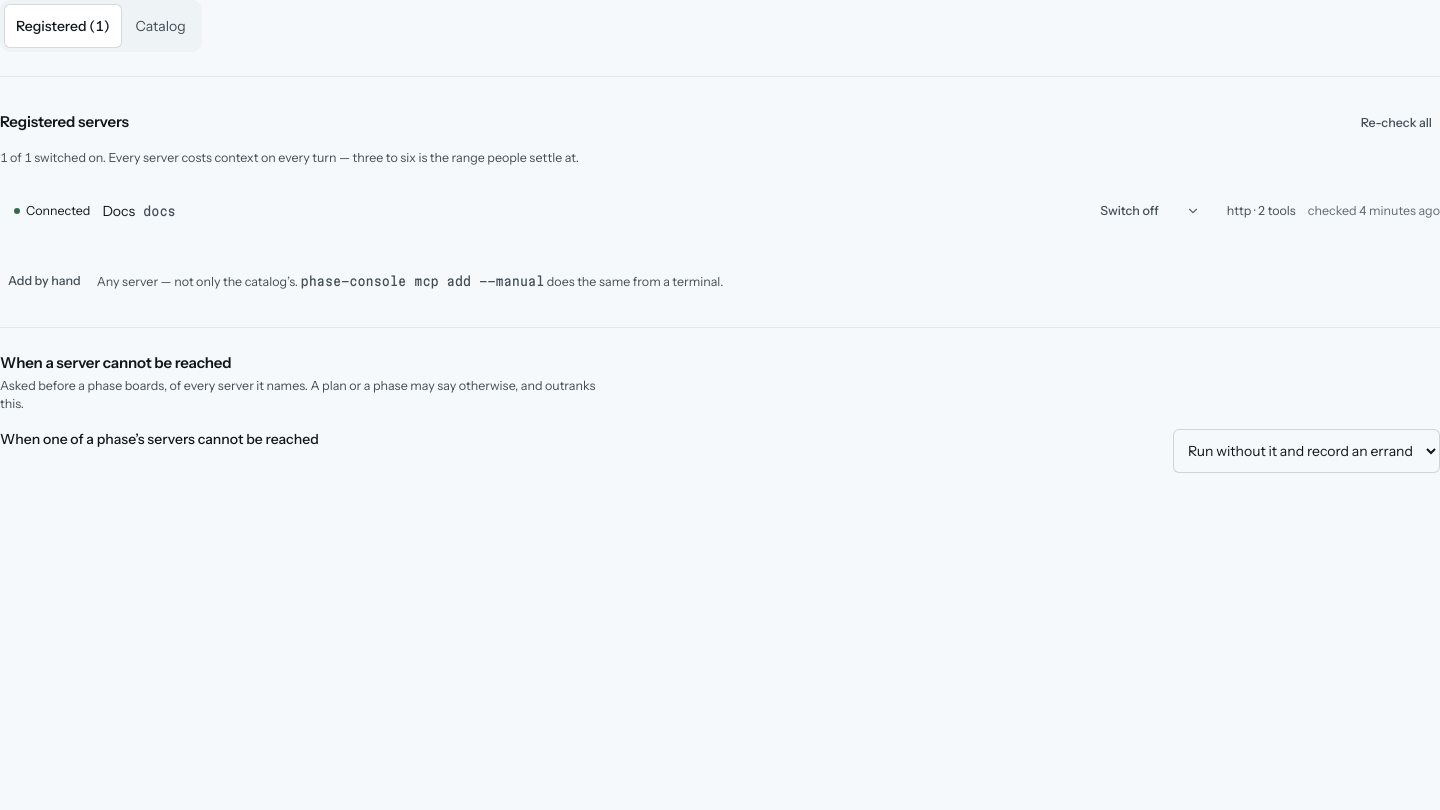
Test: the presses on a server › removes a server only once the confirm is answered, after saying what removal costs
The width and height of the screenshot is (1440, 810).
Click the button named "Show details of ". click: click(1193, 211)
box: [1171,189,1215,233]
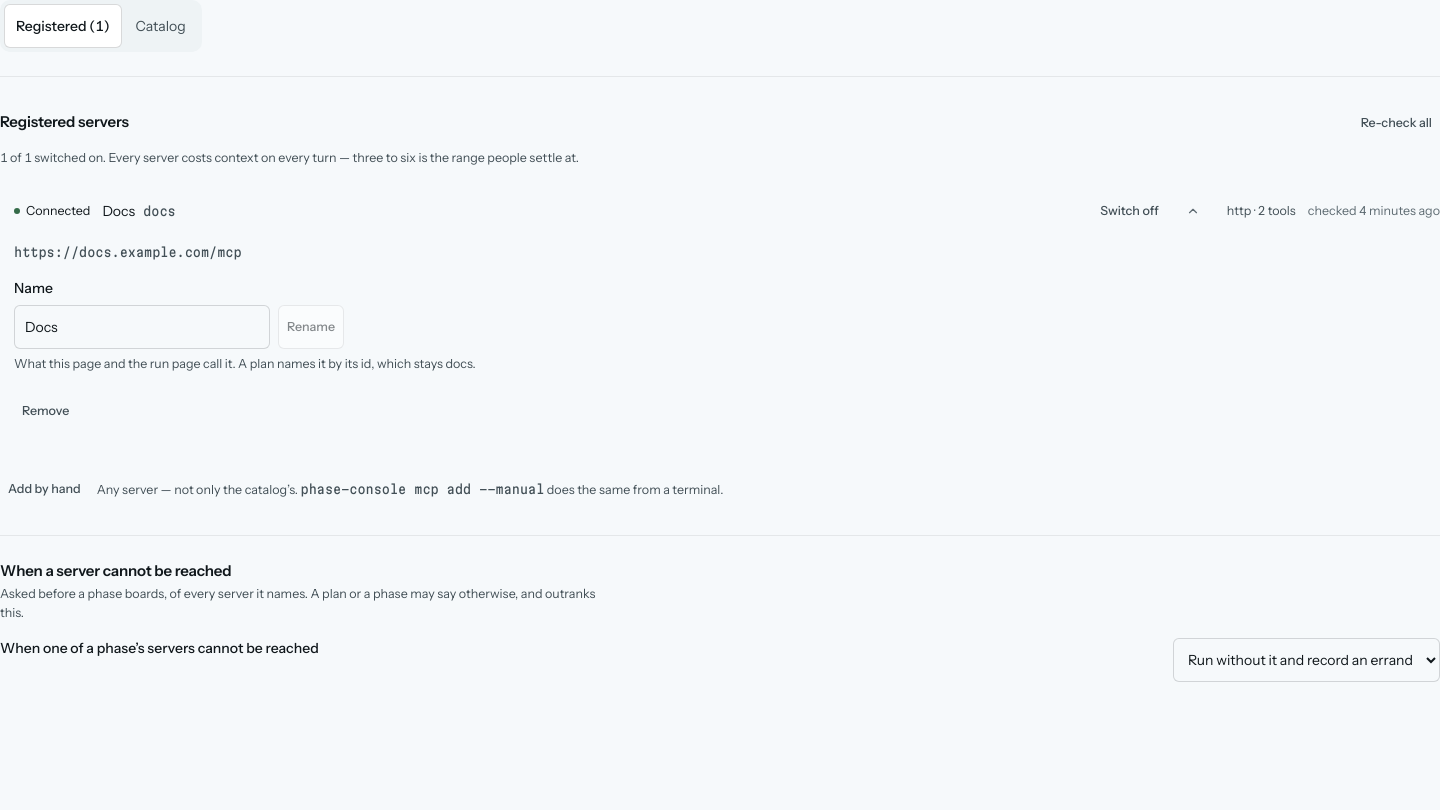
Click the button "Remove". click: click(46, 411)
box: [14,389,77,433]
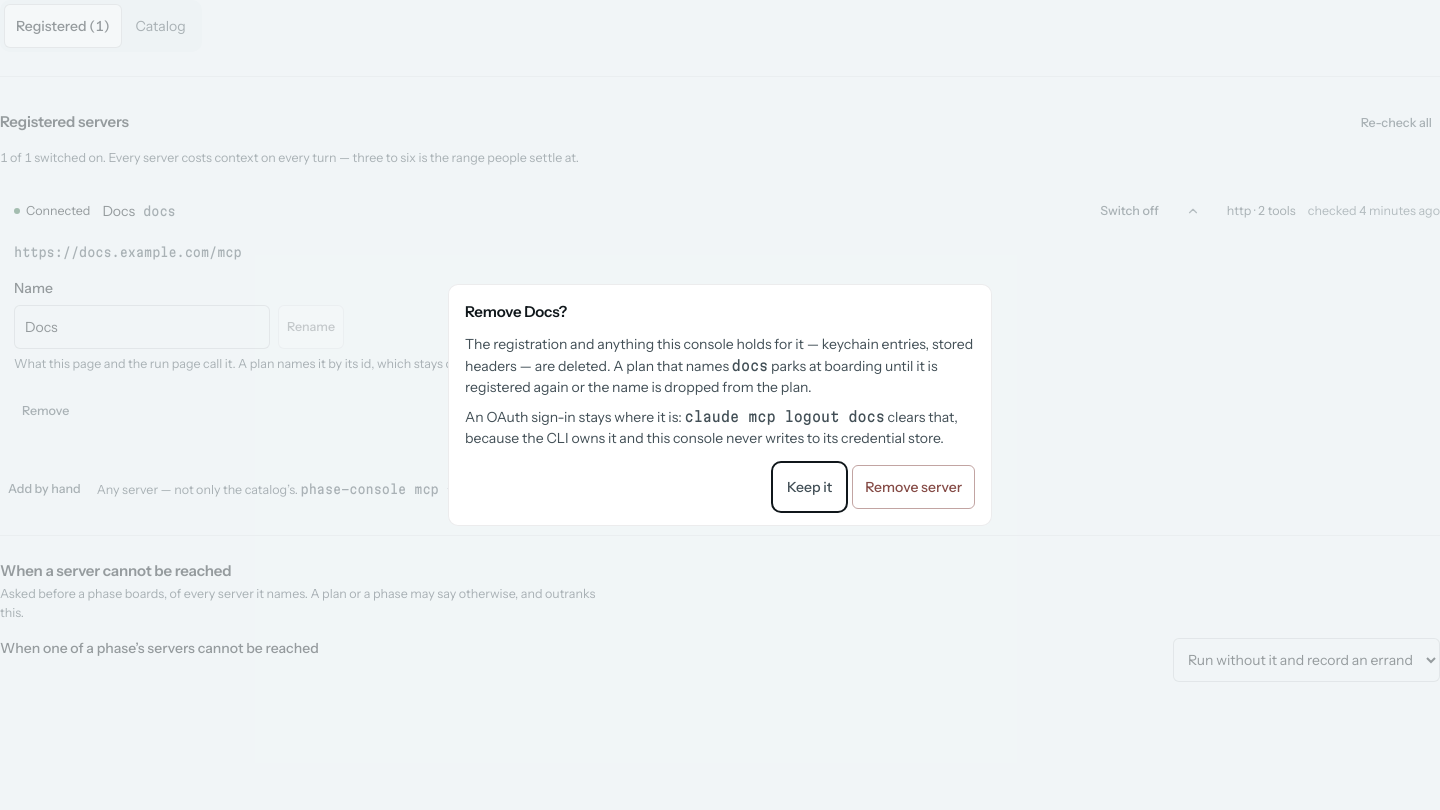
Expected: the dialog "Remove Docs?" shows "The registration and anything this console holds for it — keychain entries, stored headers — are deleted. A plan that names docs parks at boarding until it is r", [448,284,992,526]
Expected: the dialog "Remove Docs?" shows "An OAuth sign-in stays where it is: claude mcp logout docs clears that, because the CLI owns it and this console never writes to its credential store.", [448,284,992,526]
Click the button "Keep it". click: click(810, 487)
box: [775,465,844,509]
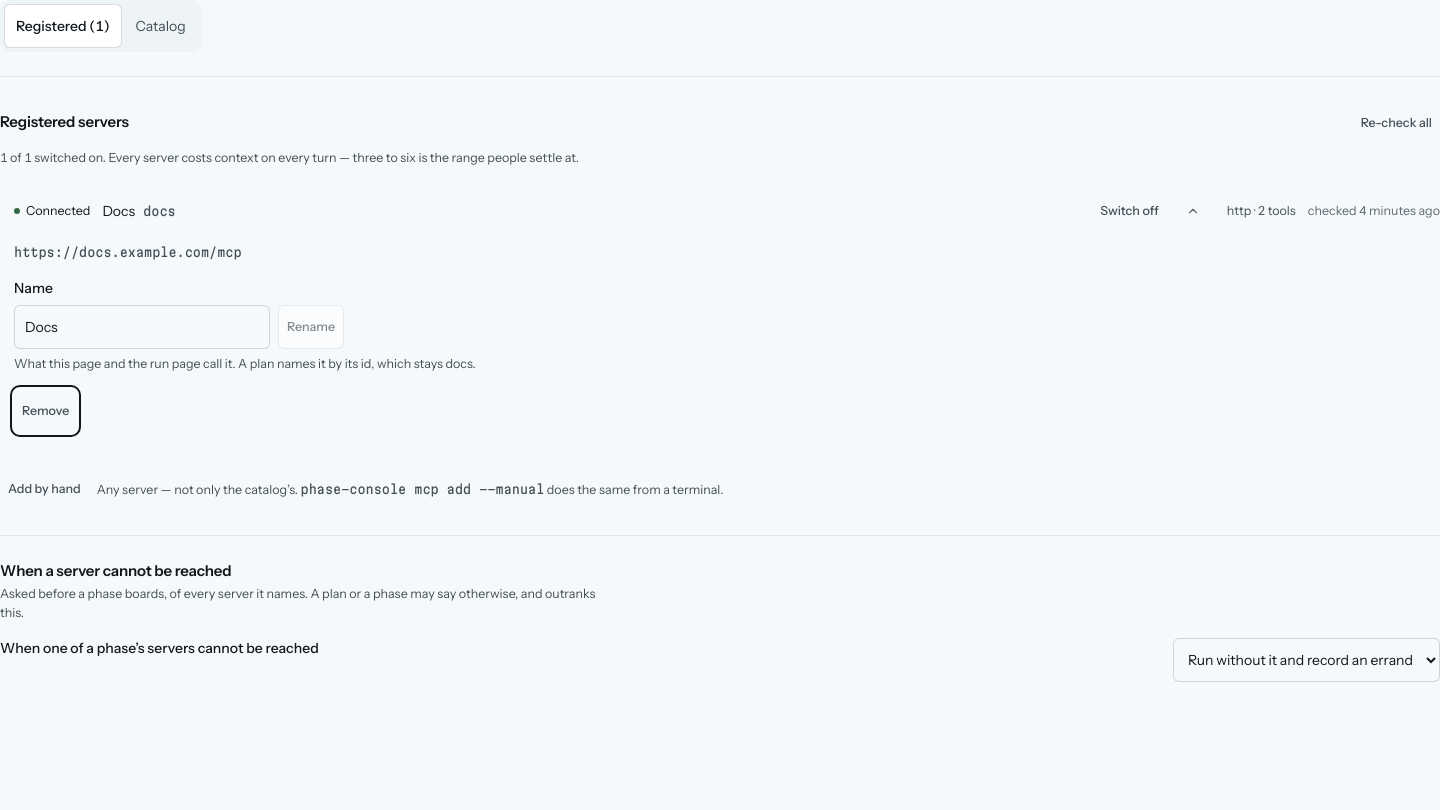
Expected: the dialog is gone
Click the button "Remove". click: click(46, 411)
box: [14,389,77,433]
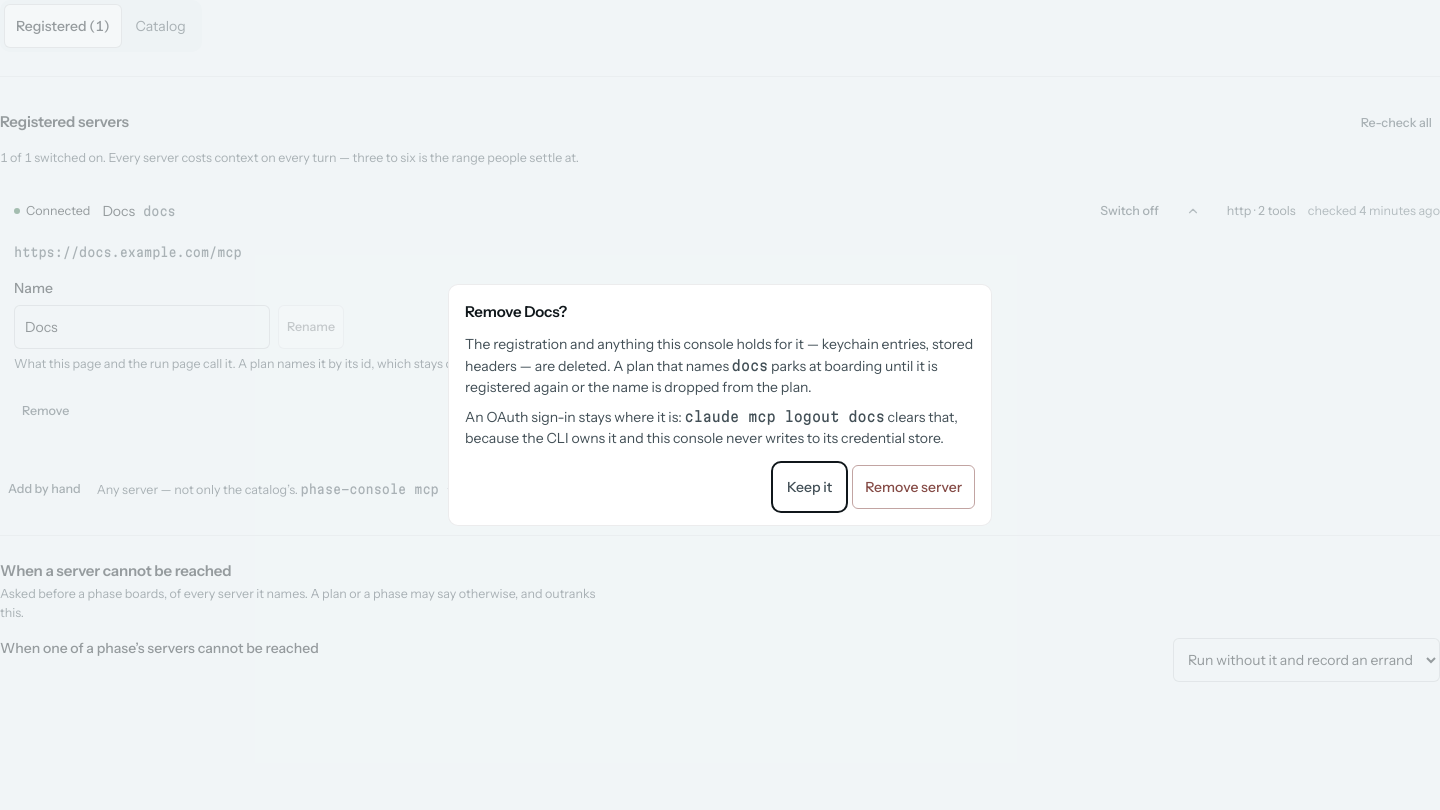
Click the button "Remove server". click: click(914, 487)
box: [852,465,975,509]
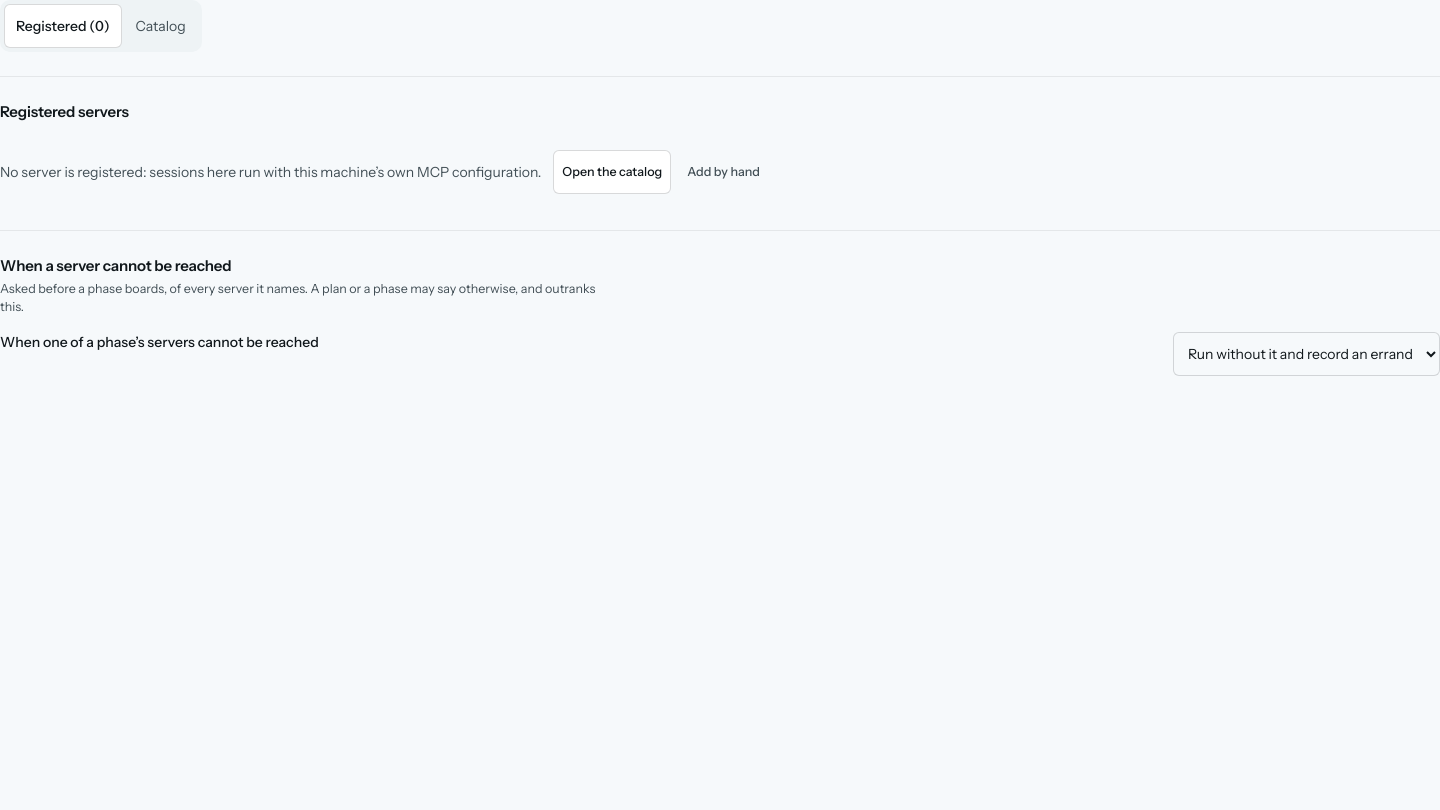
Expected: the text "No server is registered" is shown, [0,162,541,180]
